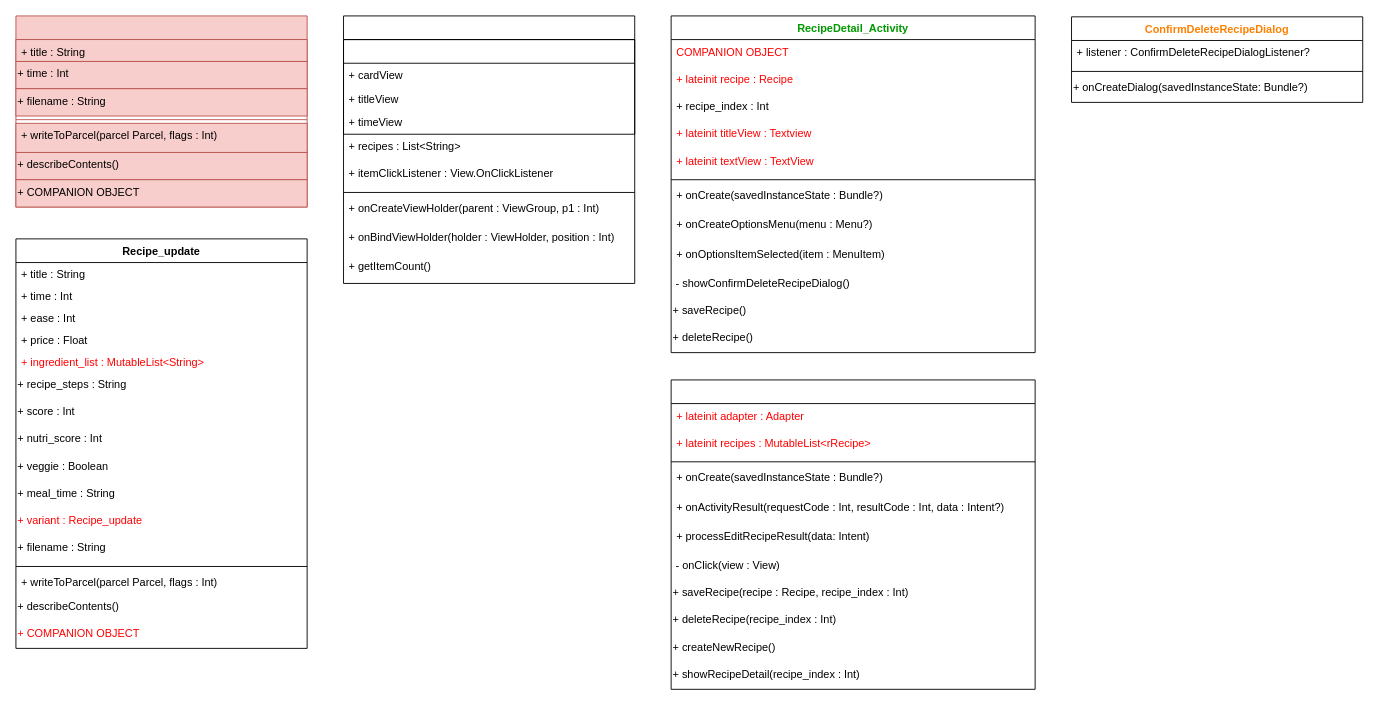
Some shapes in this 1379 by 705 pixel diagram are drawn without their labels. The box of each missing label's shape, as (x1, y1, x2, y2) in pixels:
Recipe: (15, 15, 307, 207)
RecipeAdapter: (343, 15, 635, 283)
RecipeList_Activity: (670, 379, 1035, 689)
ViewHolder(ItemView : View): (343, 39, 635, 134)
